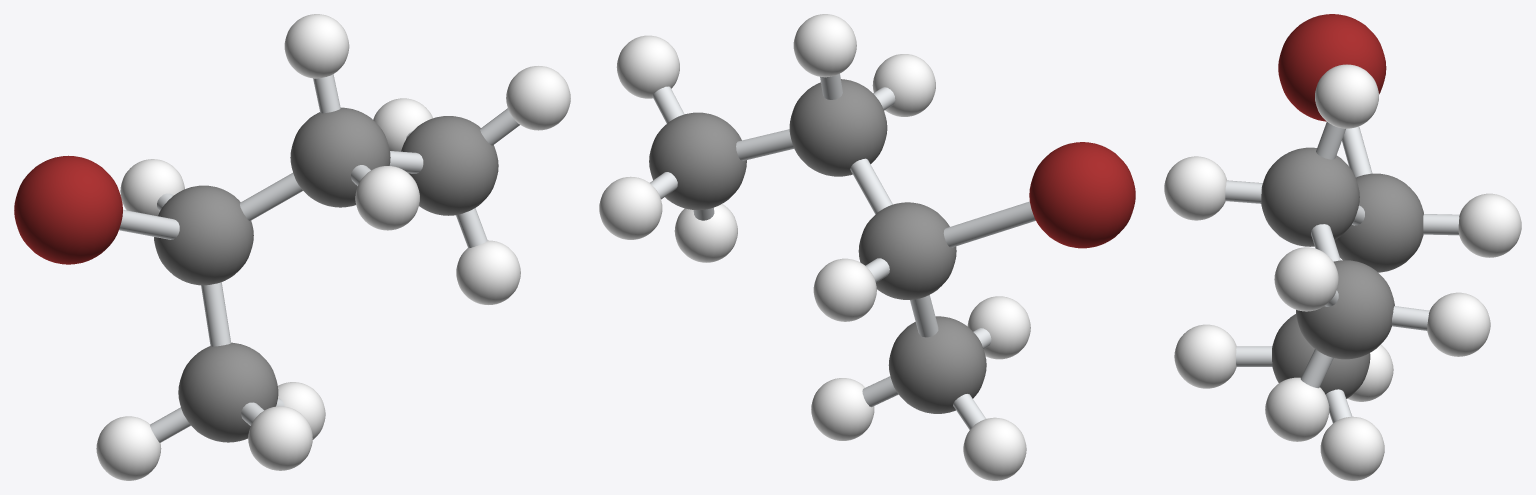
File: 2-bromobutano.glb
3 renders of one model, left to right at view 1: azimuth 30°, elevation 25°; view 2: azimuth 150°, elevation 25°; view 3: azimuth 270°, elevation 25°, orthographic. The views are drawn at different scales.
Parts seen in each view (by area): view 1: instanced (×2); view 2: instanced (×2); view 3: instanced (×2).
Boxes of the visible parts, box(x1,y1,x2,y2) form: instanced (×2): box(14, 14, 570, 480); instanced (×2): box(599, 14, 1135, 480); instanced (×2): box(1164, 14, 1521, 480).
Bounding box in the file's own units: 0.0584 × 0.0445 × 0.0343.
